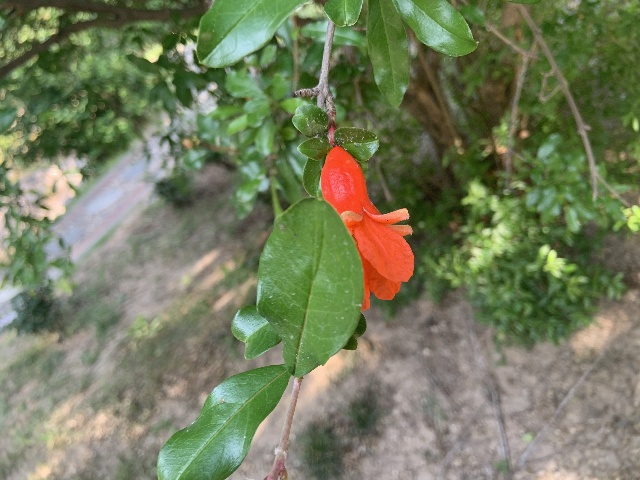flower: (320, 145, 414, 310)
